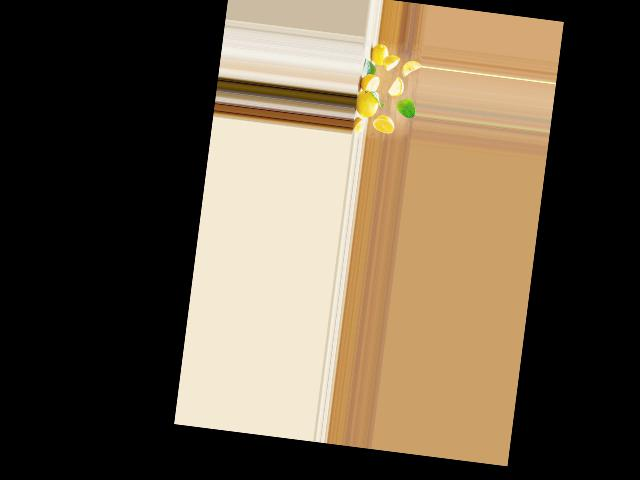lemon: (370, 40, 391, 67)
